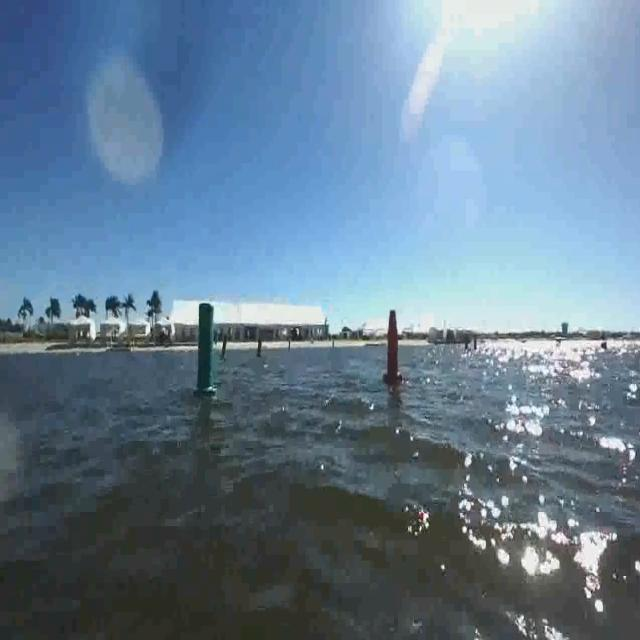green-column-buoy: (193, 302, 218, 400)
red-column-buoy: (383, 308, 403, 386), (255, 337, 264, 359)
